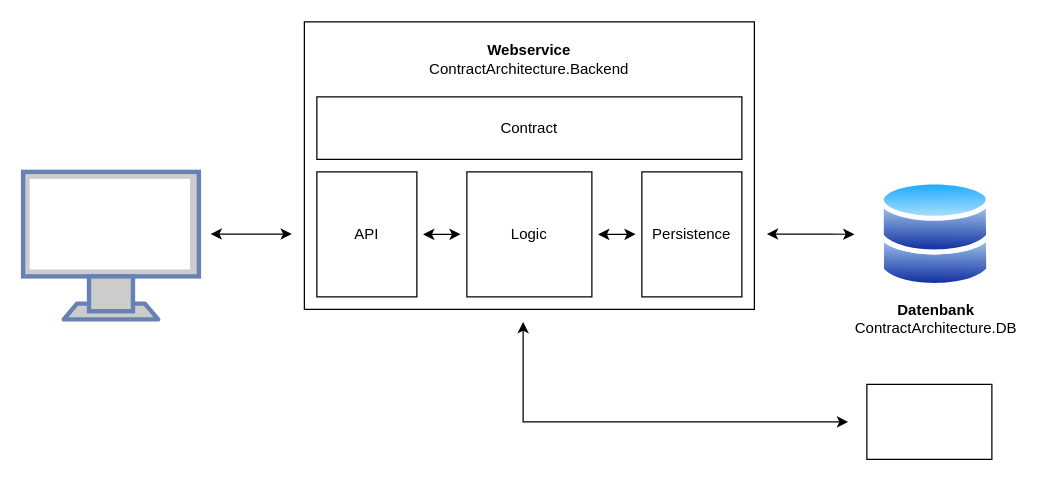
Image size: 1038x481. Some labels were removed from this diagram. Each missing label, with the box of its shape:
Browser: (21, 170, 200, 320)
Sonstige Hintergrund-systeme: (866, 383, 992, 459)
